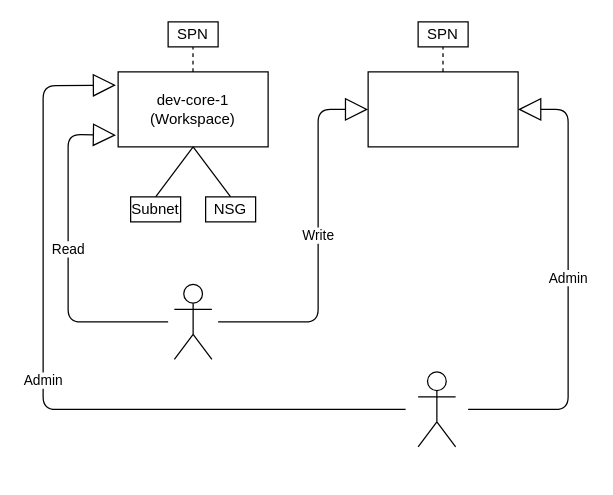
Some shapes in this 613 by 495 pixel diagram are drawn without their labels. The centre of each missing label's shape, as x and y in pixels:
dev-app-1 (Workspace): point 442,109
Team Lead: point 436,409
Worker: point 192,321
